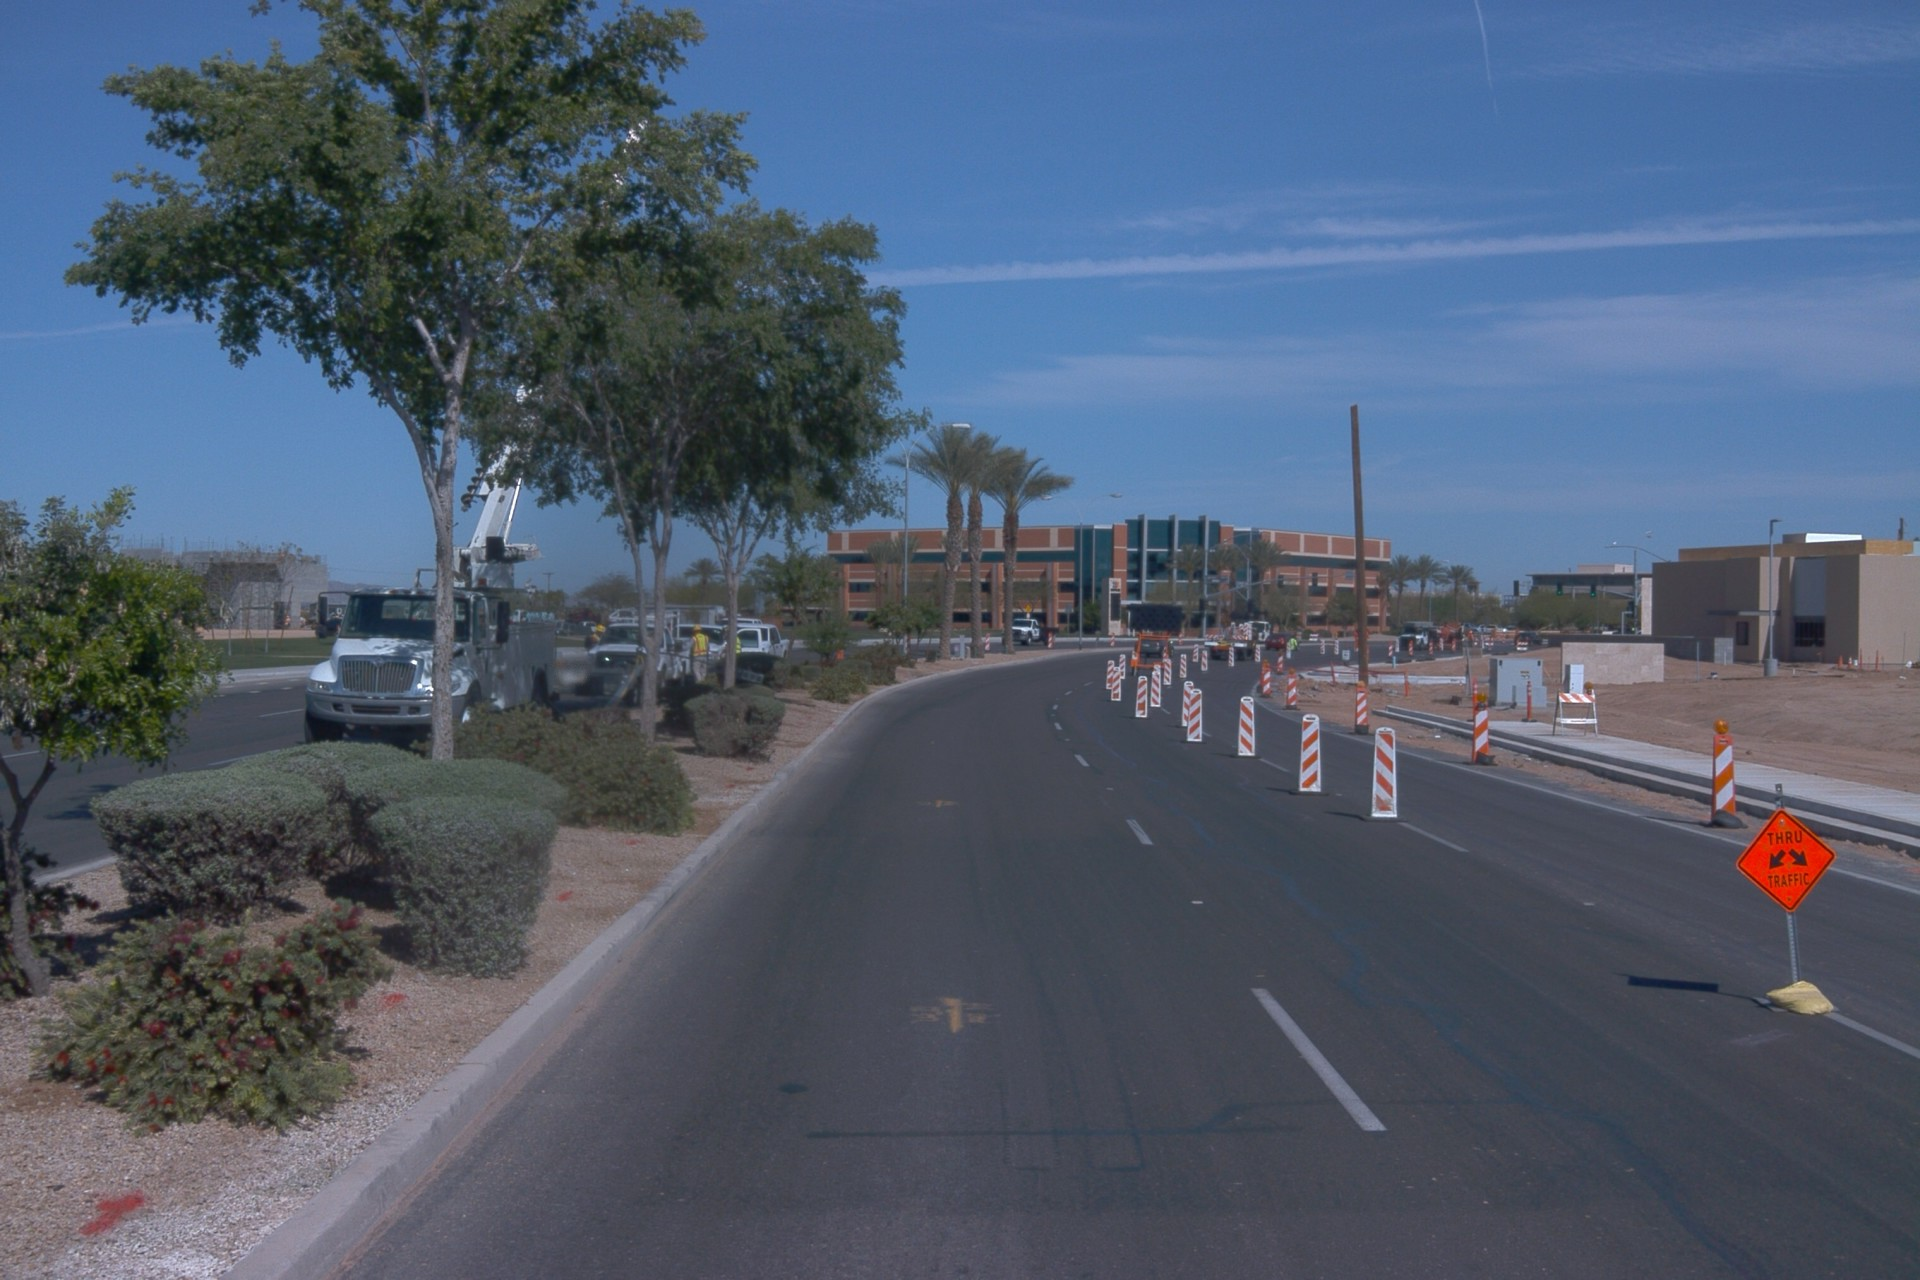TYPE_PEDESTRIAN: (670, 622, 711, 685), (721, 622, 743, 657), (1289, 633, 1298, 663)
TYPE_VEHICLE: (295, 75, 681, 754), (538, 612, 779, 732), (578, 612, 700, 695), (562, 601, 667, 662), (1119, 597, 1189, 687), (1203, 614, 1279, 667), (668, 622, 729, 678), (992, 613, 1063, 656), (731, 615, 791, 664), (1395, 621, 1478, 652), (1243, 619, 1303, 649), (1262, 628, 1299, 654), (1133, 638, 1176, 659), (312, 610, 344, 638), (718, 616, 766, 628)
